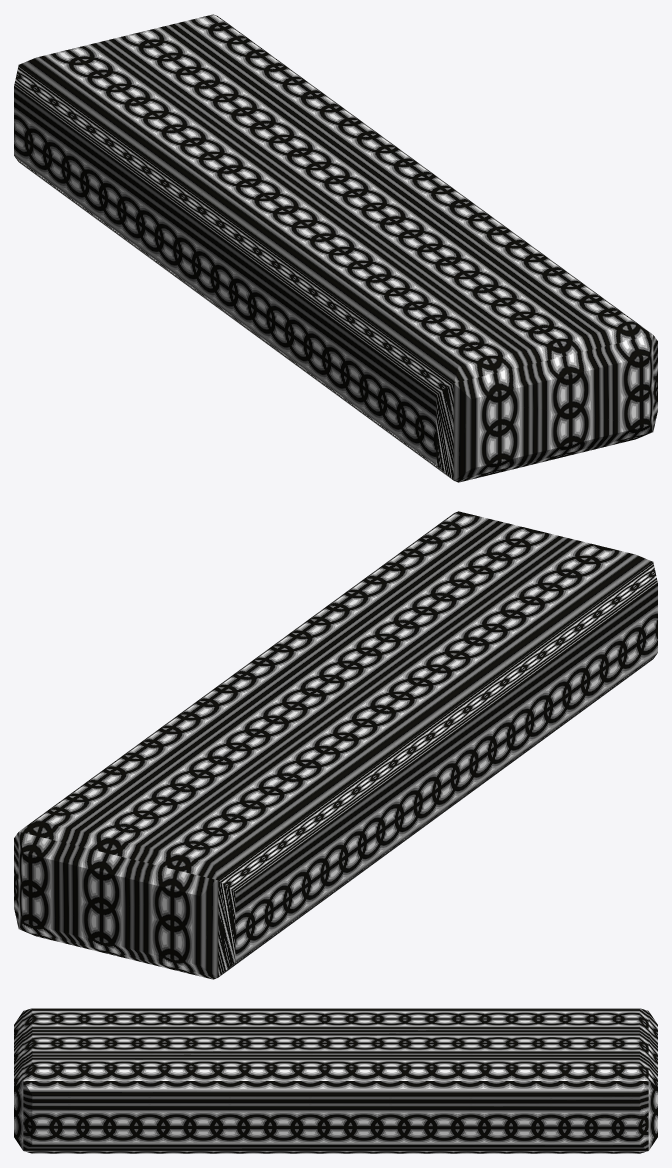
The model's file is Platform1Room1Tutorial1.FBX.
3 views of the same model, one above another, from view 1: azimuth 30°, elevation 25°; view 2: azimuth 150°, elevation 25°; view 3: azimuth 270°, elevation 25° (orthographic). The views are drawn at different scales.
Parts seen in each view (by area): view 1: Platform1Room1Tutorial1; view 2: Platform1Room1Tutorial1; view 3: Platform1Room1Tutorial1.
Part boxes in pixels (<box>): Platform1Room1Tutorial1: <box>14,14,657,482</box>; Platform1Room1Tutorial1: <box>14,511,657,979</box>; Platform1Room1Tutorial1: <box>14,1008,657,1153</box>.
Size of the model in its own units: 78.74 by 39.37 by 276.
